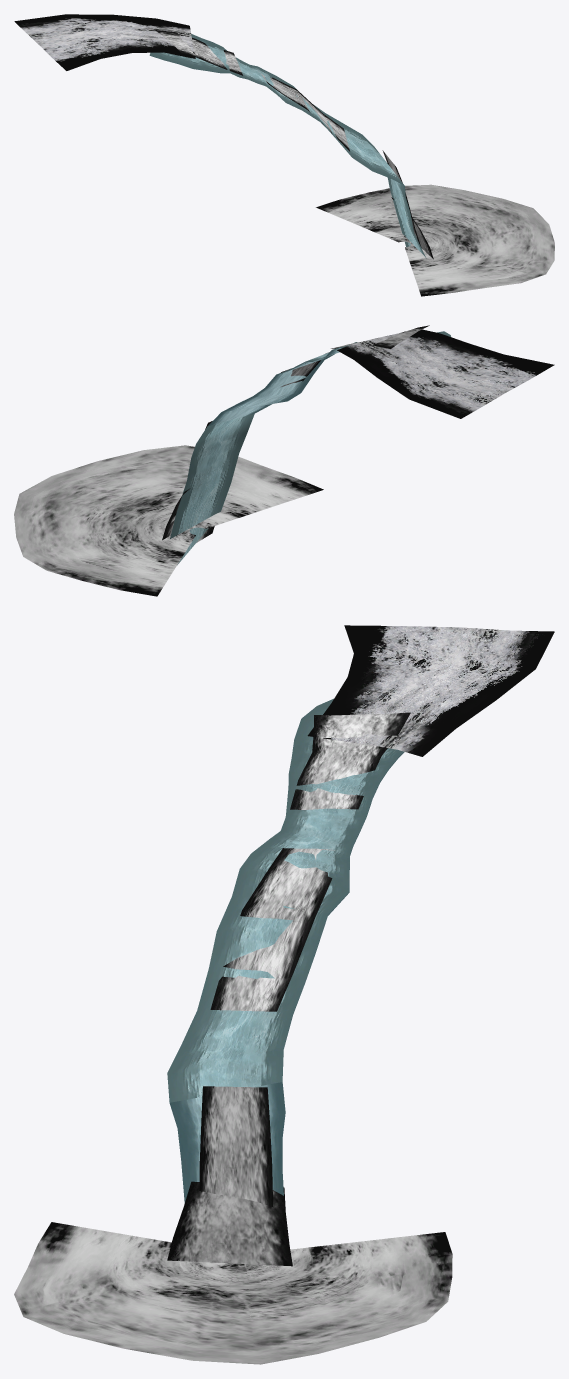
File: sholazar_northoceanwaterfall_center01.obj
The picture shows the model from 3 angles, top to bottom: view 1: azimuth 30°, elevation 25°; view 2: azimuth 150°, elevation 25°; view 3: azimuth 270°, elevation 25°; orthographic projection. The views are drawn at different scales.
Visible parts, largest first — view 1: Geoset1, Geoset0, Geoset3, Geoset2, Geoset6; view 2: Geoset1, Geoset0, Geoset3, Geoset4, Geoset2, Geoset5; view 3: Geoset1, Geoset3, Geoset0, Geoset2, Geoset6, Geoset5, Geoset4.
Boxes of the visible parts, left/top/right/bottom form: Geoset1: left=316, top=184, right=554, bottom=296; Geoset0: left=14, top=14, right=195, bottom=70; Geoset3: left=149, top=34, right=425, bottom=257; Geoset2: left=155, top=30, right=421, bottom=247; Geoset6: left=260, top=73, right=349, bottom=151; Geoset1: left=14, top=445, right=323, bottom=596; Geoset0: left=337, top=329, right=554, bottom=418; Geoset3: left=170, top=331, right=450, bottom=565; Geoset4: left=170, top=347, right=342, bottom=538; Geoset2: left=205, top=325, right=429, bottom=429; Geoset5: left=162, top=488, right=214, bottom=542; Geoset1: left=14, top=1222, right=452, bottom=1364; Geoset3: left=167, top=698, right=403, bottom=1186; Geoset0: left=307, top=625, right=554, bottom=756; Geoset2: left=199, top=712, right=410, bottom=1206; Geoset6: left=210, top=848, right=334, bottom=1011; Geoset5: left=167, top=1181, right=292, bottom=1266; Geoset4: left=167, top=752, right=404, bottom=1202.
Bounding box in the file's own units: 116 × 67.89 × 73.57.
Materials: 5 (5 with a texture image).
